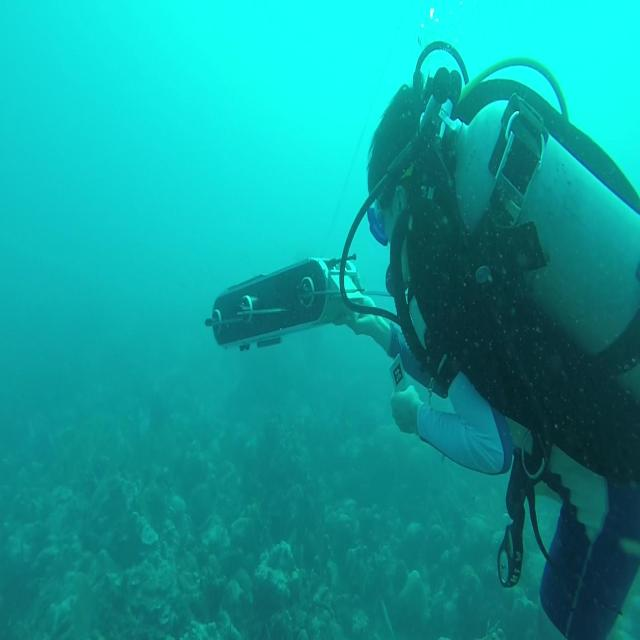human: (339, 58, 639, 637)
